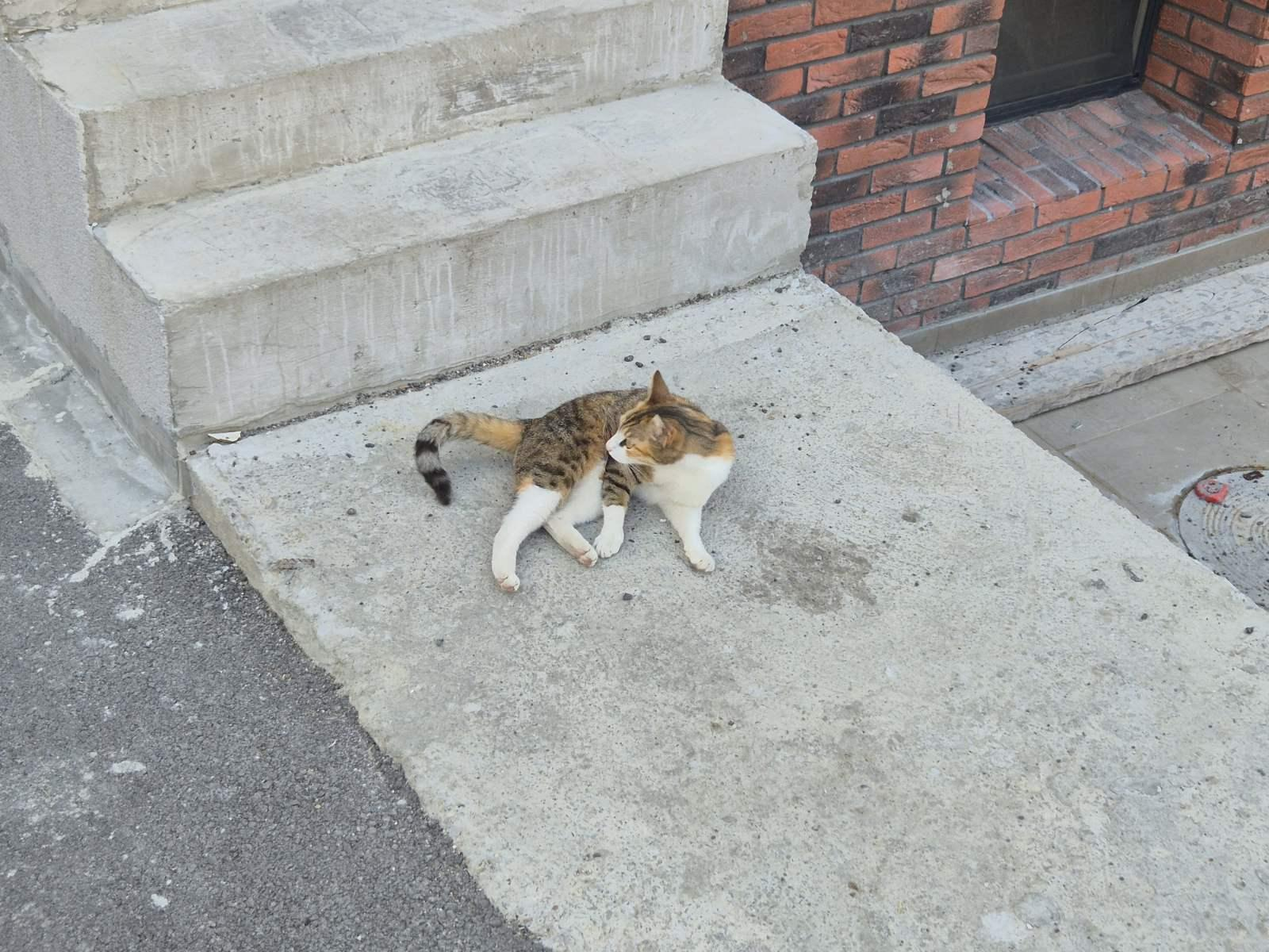macka: (415, 368, 734, 594)
